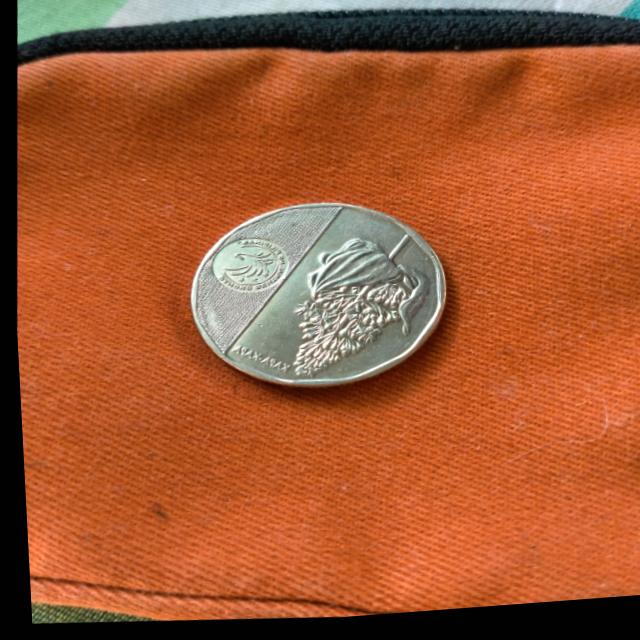10_New_Back: (277, 221, 431, 392)
